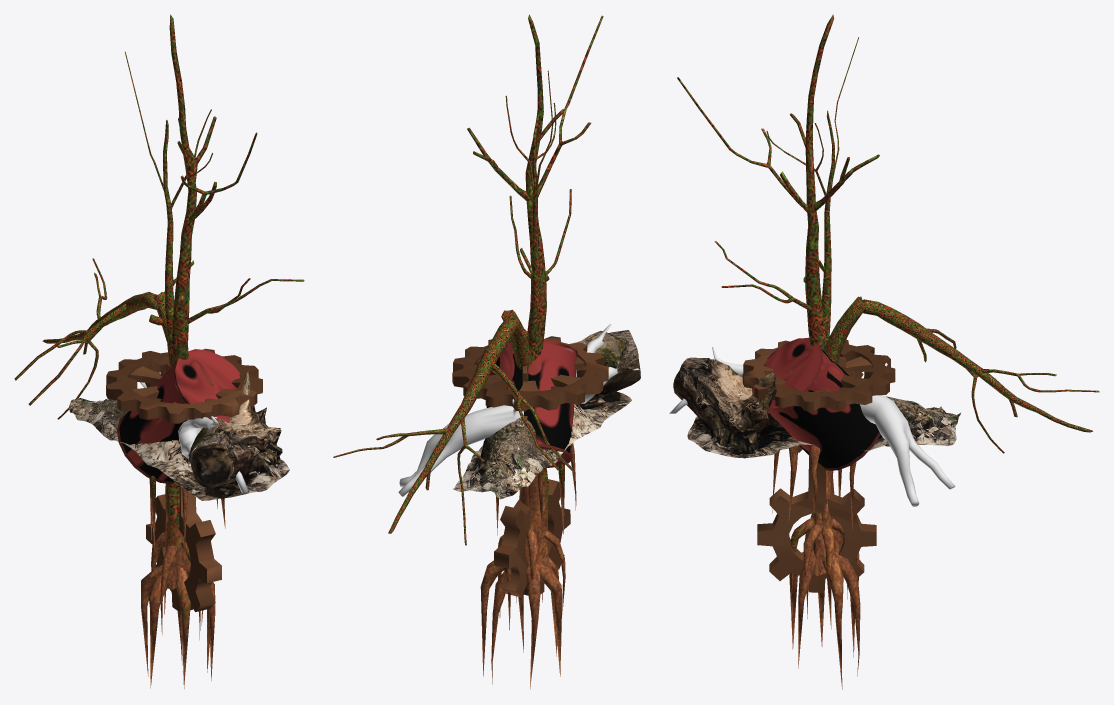
File: Musor_Pl_FPOL0.fbx
The picture shows the model from 3 angles, left to right: view 1: azimuth 30°, elevation 25°; view 2: azimuth 150°, elevation 25°; view 3: azimuth 270°, elevation 25°; orthographic projection. The views are drawn at different scales.
Visible parts, largest first — view 1: Tree5, WTF, Tree1, Barrel, Tree3, Tree2, Tree4; view 2: Tree1, WTF, Tree5, Tree3, Tree2, Barrel, Tree4; view 3: WTF, Tree5, Tree1, Barrel, Tree3, Tree2, Tree4.
Boxes of the visible parts, x1,y1,x2,y2 form: Tree5: (69,371,289,500); WTF: (106,348,262,612); Tree1: (141,14,257,688); Barrel: (117,349,240,483); Tree3: (14,258,225,561); Tree2: (125,51,304,640); Tree4: (140,382,248,493); Tree1: (467,14,603,689); WTF: (452,336,608,597); Tree5: (453,329,640,499); Tree3: (333,309,576,545); Tree2: (497,70,571,630); Barrel: (486,340,577,467); Tree4: (398,324,639,496); WTF: (742,337,895,592); Tree5: (673,357,960,458); Tree1: (677,14,879,689); Barrel: (752,338,880,470); Tree3: (772,296,1099,530); Tree2: (714,37,859,629); Tree4: (669,347,955,506).
Bounding box in the file's own units: 33525 × 119390 × 70860.
